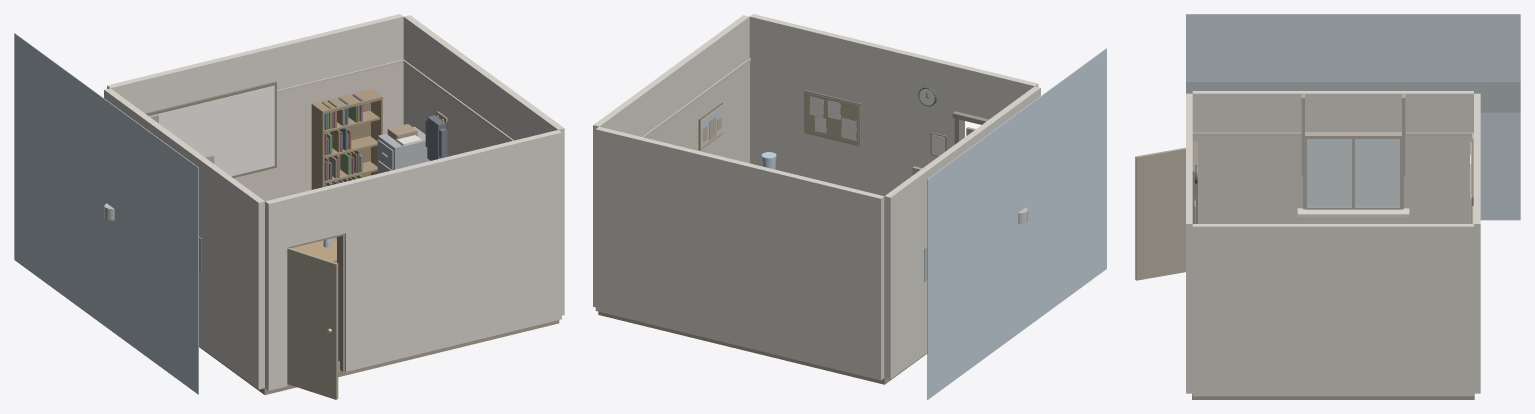
The model's file is speaking_room_set_noceil_222dadd532.glb.
3 renders of one model, left to right at view 1: azimuth 30°, elevation 25°; view 2: azimuth 150°, elevation 25°; view 3: azimuth 270°, elevation 25°, orthographic. The views are drawn at different scales.
Visible parts, largest first — view 1: wall_near (×3), window_view, wall_window, wall_back, board (×2), wall_right, dado, door_leaf, dado_2, bookcase (×4), floor, filing_cabinet (+5 smaller); view 2: wall_back, window_view, wall_near (×2), wall_window, wall_right, dado_2, noticeboard, floor, picture_rail_3; view 3: wall_right, window_view (×2), dado_3, wall_window, door_leaf, window_glass, wall_back, wall_near, floor, window (×2), window_sill, picture_rail_2.
Part boxes in pixels (x1=…): wall_near (×3): x1=265, y1=130, x2=561, y2=390; window_view: x1=14, y1=33, x2=198, y2=394; wall_window: x1=104, y1=88, x2=264, y2=389; wall_back: x1=107, y1=14, x2=403, y2=112; board (×2): x1=145, y1=81, x2=276, y2=177; wall_right: x1=403, y1=15, x2=564, y2=315; dado: x1=233, y1=63, x2=403, y2=201; door_leaf: x1=287, y1=248, x2=338, y2=399; dado_2: x1=403, y1=63, x2=509, y2=157; bookcase (×4): x1=311, y1=89, x2=382, y2=189; floor: x1=199, y1=237, x2=559, y2=394; filing_cabinet: x1=378, y1=126, x2=430, y2=170; wall_back: x1=595, y1=126, x2=884, y2=380; window_view: x1=927, y1=48, x2=1106, y2=399; wall_near (×2): x1=749, y1=14, x2=1019, y2=196; wall_window: x1=884, y1=86, x2=1040, y2=379; wall_right: x1=593, y1=15, x2=749, y2=307; dado_2: x1=646, y1=62, x2=749, y2=163; noticeboard: x1=805, y1=92, x2=858, y2=145; floor: x1=598, y1=311, x2=927, y2=384; picture_rail_3: x1=642, y1=58, x2=750, y2=137; wall_right: x1=1192, y1=224, x2=1473, y2=396; window_view (×2): x1=1186, y1=14, x2=1520, y2=220; dado_3: x1=1192, y1=135, x2=1472, y2=223; wall_window: x1=1192, y1=91, x2=1473, y2=132; door_leaf: x1=1135, y1=147, x2=1185, y2=280; window_glass: x1=1307, y1=139, x2=1399, y2=206; wall_back: x1=1474, y1=93, x2=1480, y2=393; wall_near: x1=1186, y1=128, x2=1192, y2=393; floor: x1=1192, y1=393, x2=1474, y2=399; window (×2): x1=1302, y1=132, x2=1404, y2=209; window_sill: x1=1297, y1=208, x2=1409, y2=217; picture_rail_2: x1=1192, y1=132, x2=1473, y2=135.
Bounding box in the file's own units: 5.89 × 3.7 × 5.76.
